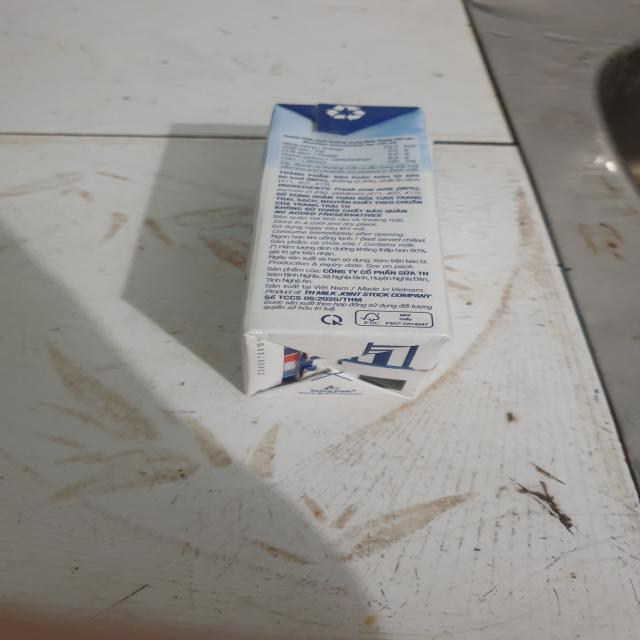TH: (245, 106, 450, 405)
